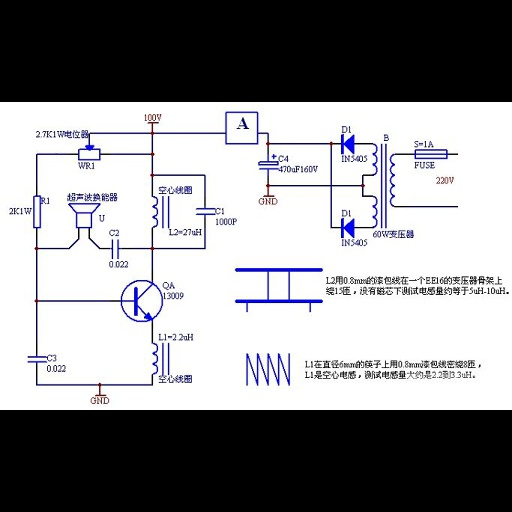capacitor: (191, 204, 216, 219), (107, 237, 123, 260), (26, 352, 47, 368)
firstdiode: (336, 132, 358, 155), (337, 217, 358, 239)
firstresistance: (32, 193, 42, 232)
fuse: (409, 148, 454, 160)
inductor: (147, 191, 160, 236), (145, 336, 159, 377)
npn: (129, 282, 155, 319)
secondpolarcapacitor: (255, 153, 279, 172)
transformer: (370, 141, 399, 228)
